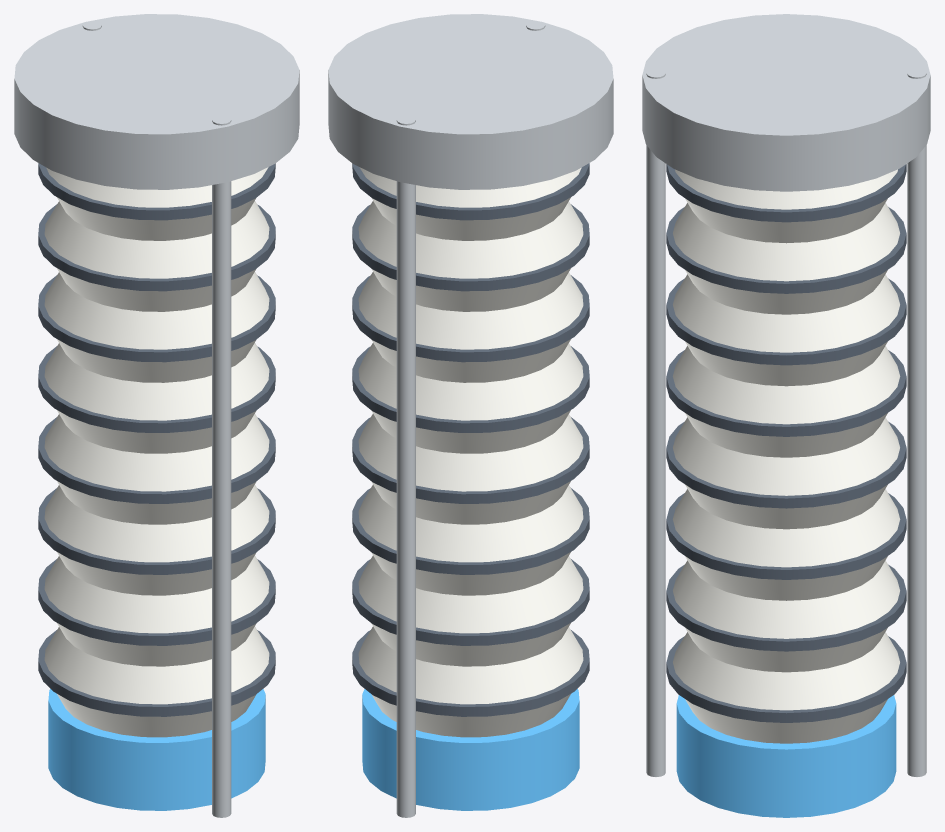
File: tipper-bellows-chute-v5-medium.glb
3 renders of one model, left to right at view 1: azimuth 30°, elevation 25°; view 2: azimuth 150°, elevation 25°; view 3: azimuth 270°, elevation 25°, orthographic.
Visible parts, largest first — view 1: tipper-bellows-chute-v5-high.glb-v5_bellows_canvas, tipper-bellows-chute-v5-high.glb-v5_bulk_silver, tipper-bellows-chute-v5-high.glb-v5_bulk_gunmetal, tipper-bellows-chute-v5-high.glb-v5_tilter_blue; view 2: tipper-bellows-chute-v5-high.glb-v5_bellows_canvas, tipper-bellows-chute-v5-high.glb-v5_bulk_silver, tipper-bellows-chute-v5-high.glb-v5_bulk_gunmetal, tipper-bellows-chute-v5-high.glb-v5_tilter_blue; view 3: tipper-bellows-chute-v5-high.glb-v5_bellows_canvas, tipper-bellows-chute-v5-high.glb-v5_bulk_silver, tipper-bellows-chute-v5-high.glb-v5_bulk_gunmetal, tipper-bellows-chute-v5-high.glb-v5_tilter_blue.
Boxes of the visible parts, <box> form: tipper-bellows-chute-v5-high.glb-v5_bellows_canvas: <box>44,167,269,737</box>; tipper-bellows-chute-v5-high.glb-v5_bulk_silver: <box>14,14,299,817</box>; tipper-bellows-chute-v5-high.glb-v5_bulk_gunmetal: <box>38,163,275,716</box>; tipper-bellows-chute-v5-high.glb-v5_tilter_blue: <box>48,689,265,810</box>; tipper-bellows-chute-v5-high.glb-v5_bellows_canvas: <box>358,167,583,737</box>; tipper-bellows-chute-v5-high.glb-v5_bulk_silver: <box>328,14,613,817</box>; tipper-bellows-chute-v5-high.glb-v5_bulk_gunmetal: <box>352,163,589,716</box>; tipper-bellows-chute-v5-high.glb-v5_tilter_blue: <box>362,689,579,810</box>; tipper-bellows-chute-v5-high.glb-v5_bellows_canvas: <box>672,169,900,743</box>; tipper-bellows-chute-v5-high.glb-v5_bulk_silver: <box>642,14,930,776</box>; tipper-bellows-chute-v5-high.glb-v5_bulk_gunmetal: <box>666,164,906,722</box>; tipper-bellows-chute-v5-high.glb-v5_tilter_blue: <box>676,695,896,817</box>.
Bounding box in the file's own units: 0.84 × 2.25 × 0.84.
